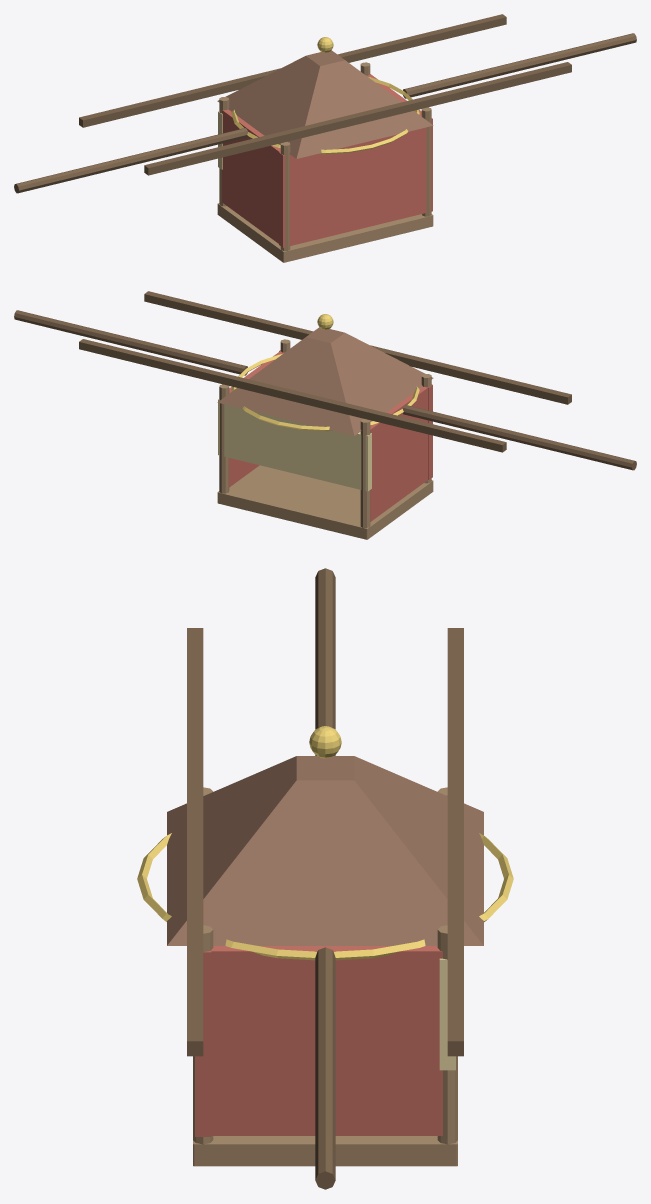
The model's file is palanquin.glb.
3 renders of one model, top to bottom at view 1: azimuth 30°, elevation 25°; view 2: azimuth 150°, elevation 25°; view 3: azimuth 270°, elevation 25°, orthographic. The views are drawn at different scales.
Visible parts, largest first — view 1: palanquin; view 2: palanquin; view 3: palanquin.
Boxes of the visible parts, x1,y1,x2,y2 form: palanquin: (14, 14, 636, 262); palanquin: (14, 291, 636, 539); palanquin: (137, 568, 513, 1189).
Size of the model in its own units: 3.5 by 0.99 by 0.924.
